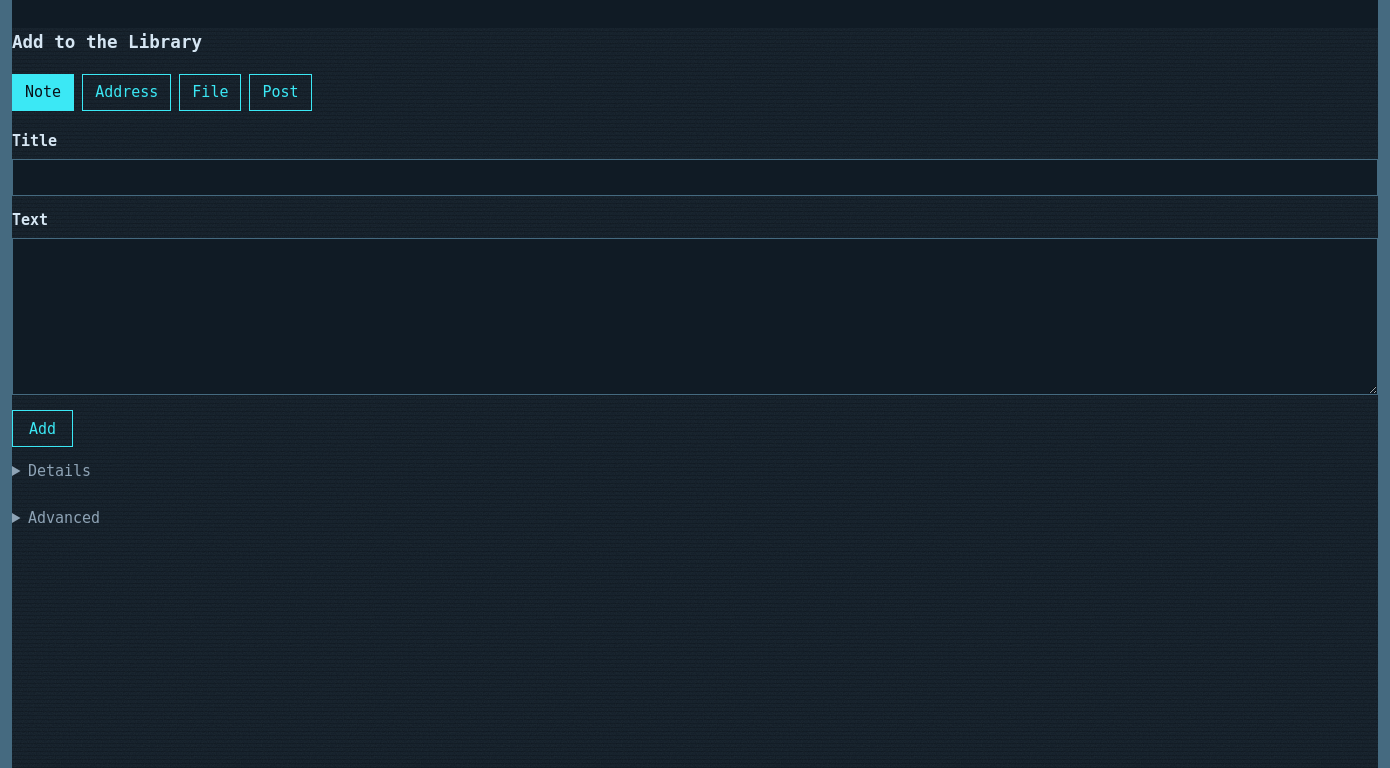
Scenario: adding to the research base › warns that an id that already exists replaces that document
Click the heading "Advanced" at (64, 518), box 28,509 -> 100,527
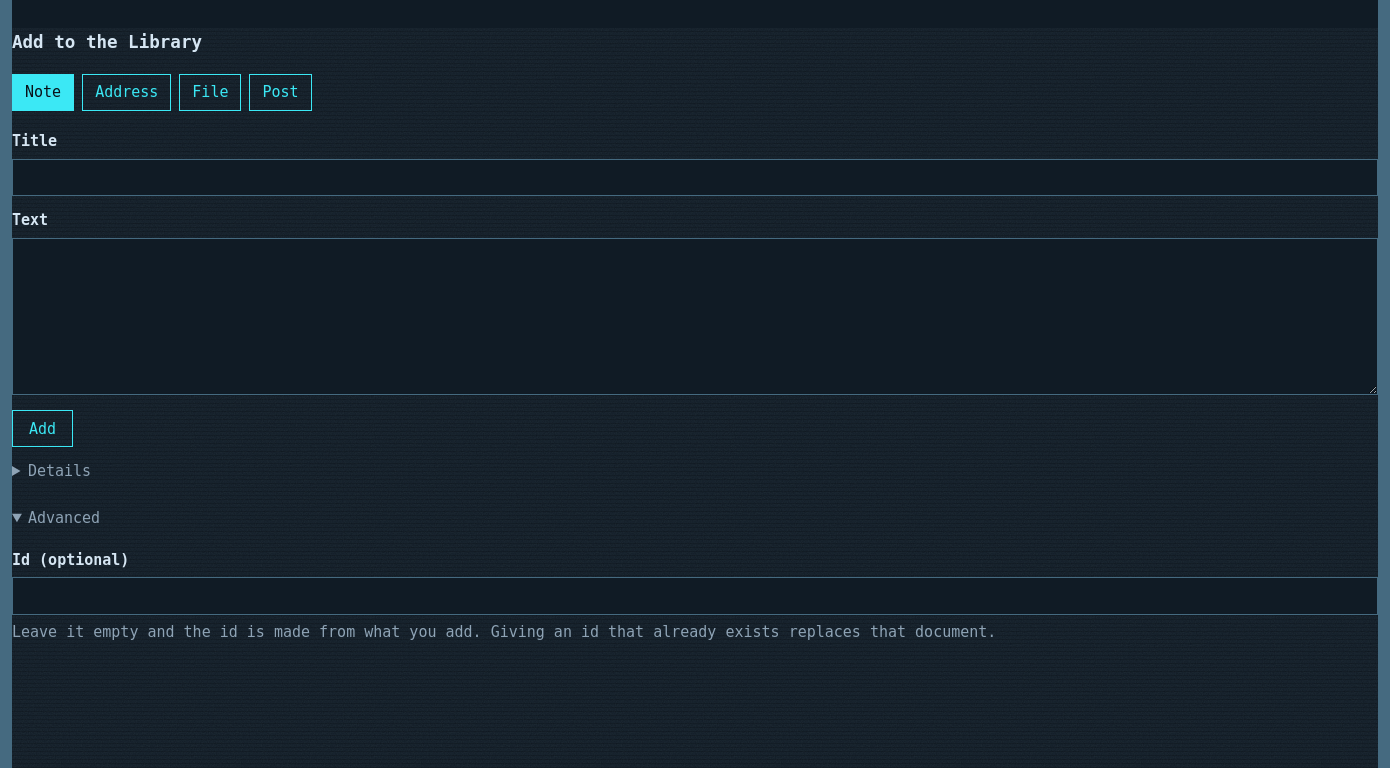
Now the text "Leave it empty and the id is made from what you add. Giving an id that already exists replaces that document." is shown, box 12,623 -> 996,641
